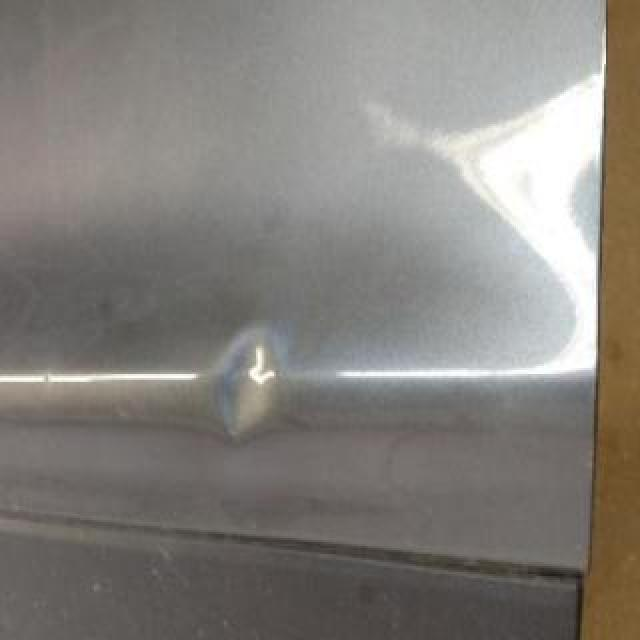dent: (212, 323, 288, 439)
